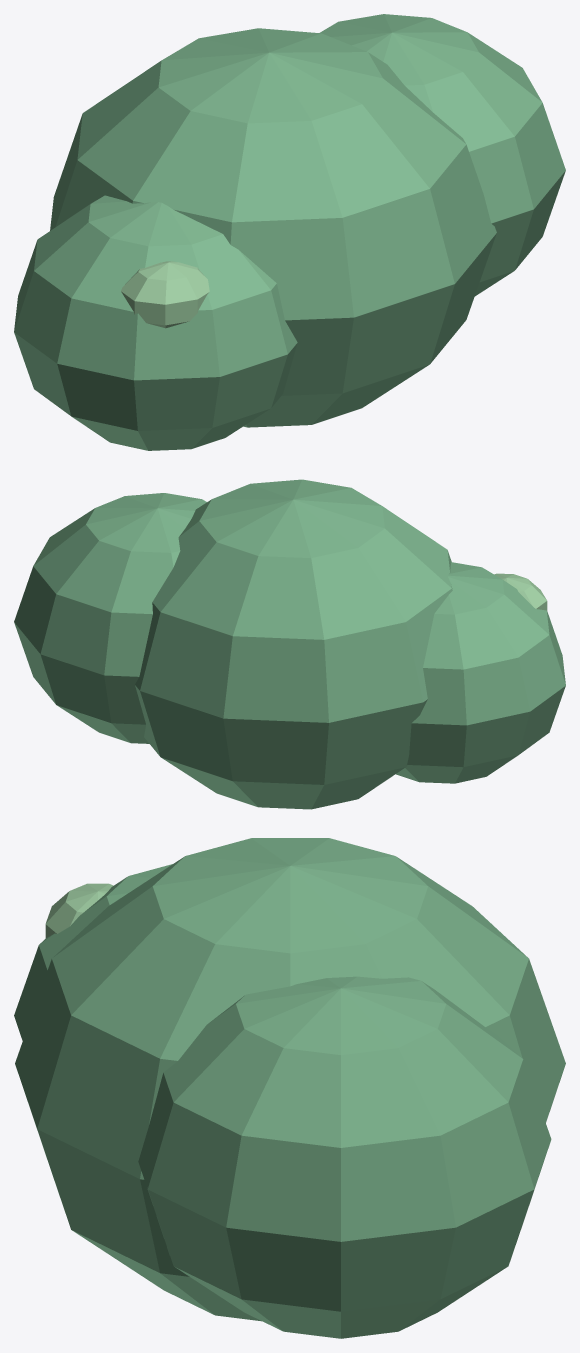
File: arbusto.glb
3 views of the same model, one above another, from view 1: azimuth 30°, elevation 25°; view 2: azimuth 150°, elevation 25°; view 3: azimuth 270°, elevation 25° (orthographic). The views are drawn at different scales.
Visible parts, largest first — view 1: arbusto; view 2: arbusto; view 3: arbusto.
Part boxes in pixels (x1=…): arbusto: x1=14, y1=14, x2=565, y2=450; arbusto: x1=14, y1=479, x2=565, y2=809; arbusto: x1=14, y1=838, x2=565, y2=1338.
Size of the model in its own units: 1.58 by 0.935 by 1.09.
